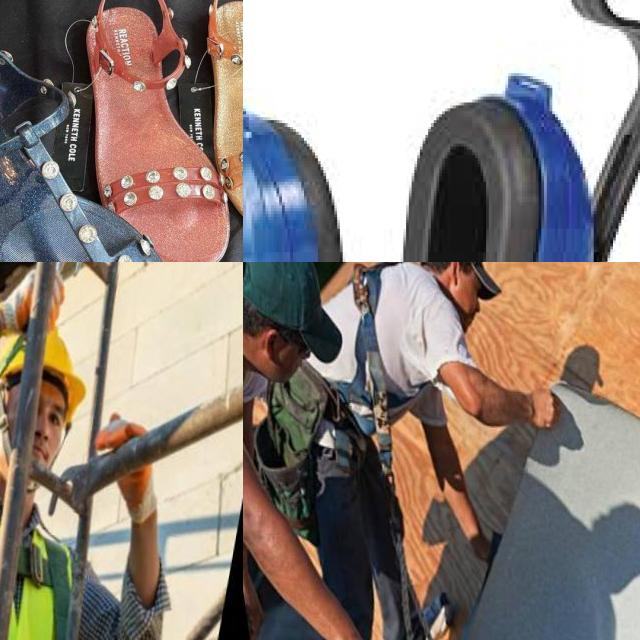Ear-protection: (475, 70, 596, 262), (243, 90, 348, 262)
Harness: (335, 262, 410, 476)
Sandals: (0, 18, 205, 262), (60, 0, 243, 262), (206, 0, 243, 253)
